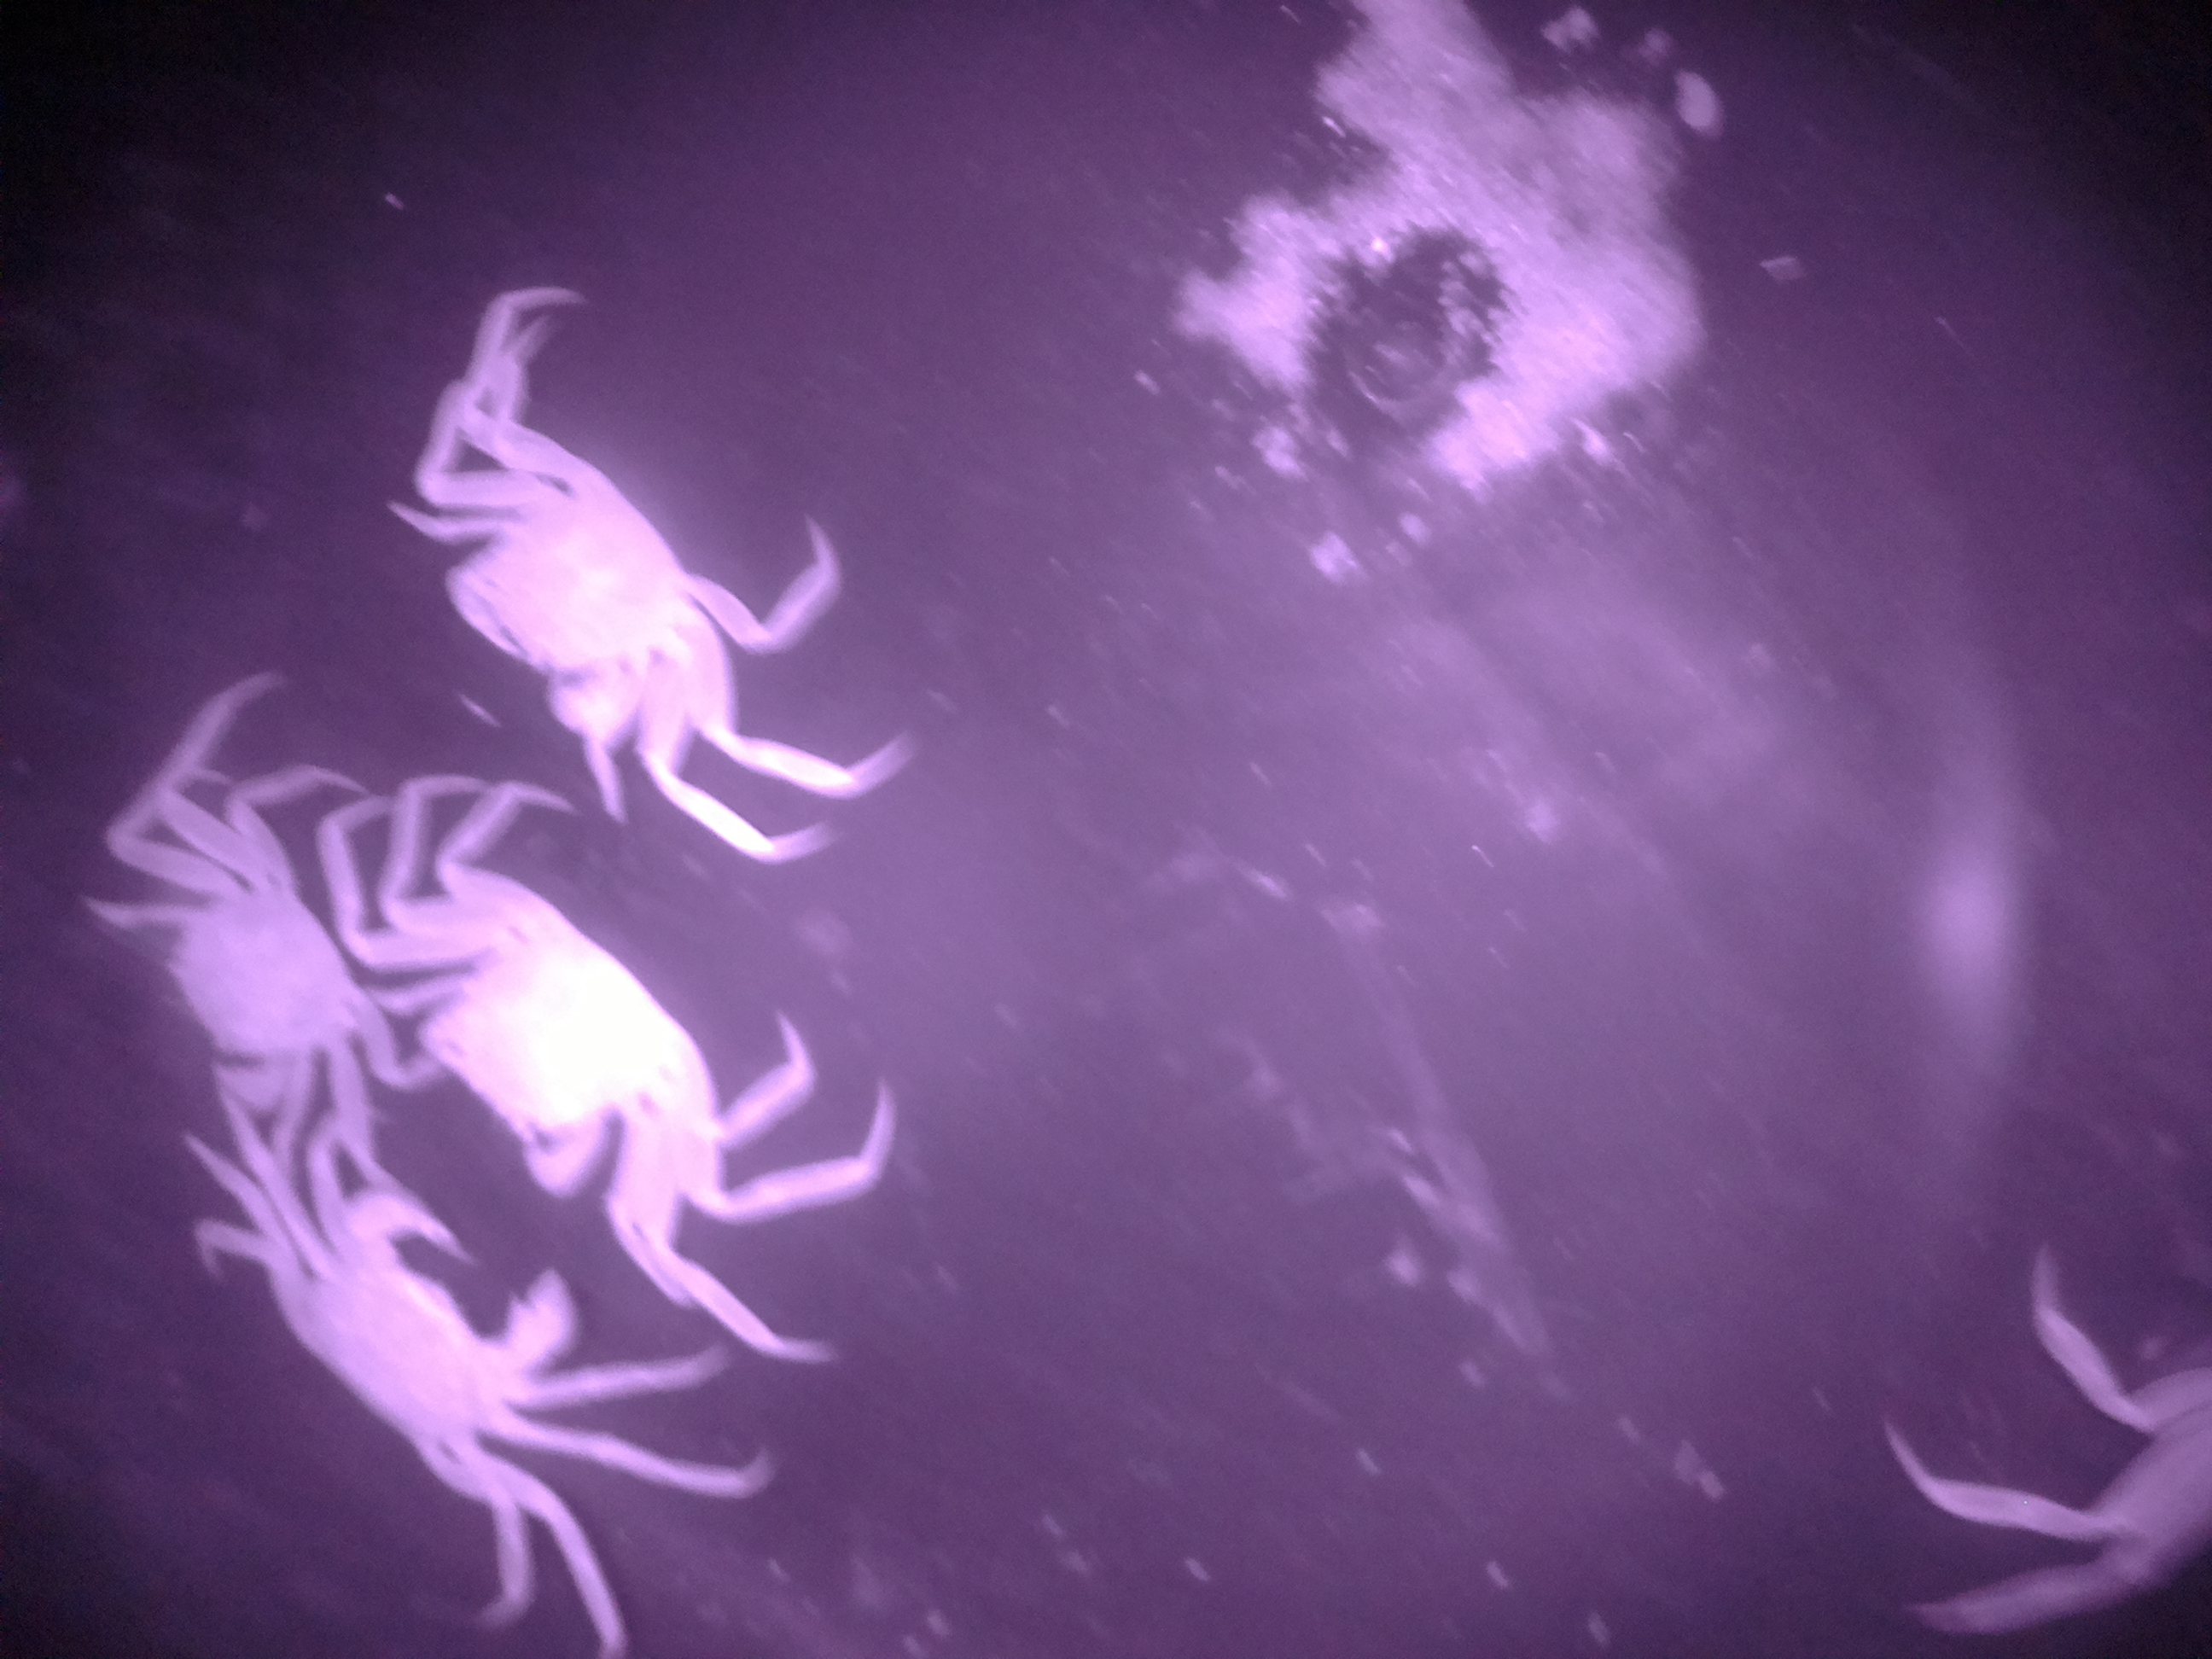Crab: (345, 781, 777, 1276), (214, 1086, 615, 1601), (381, 415, 792, 796)
